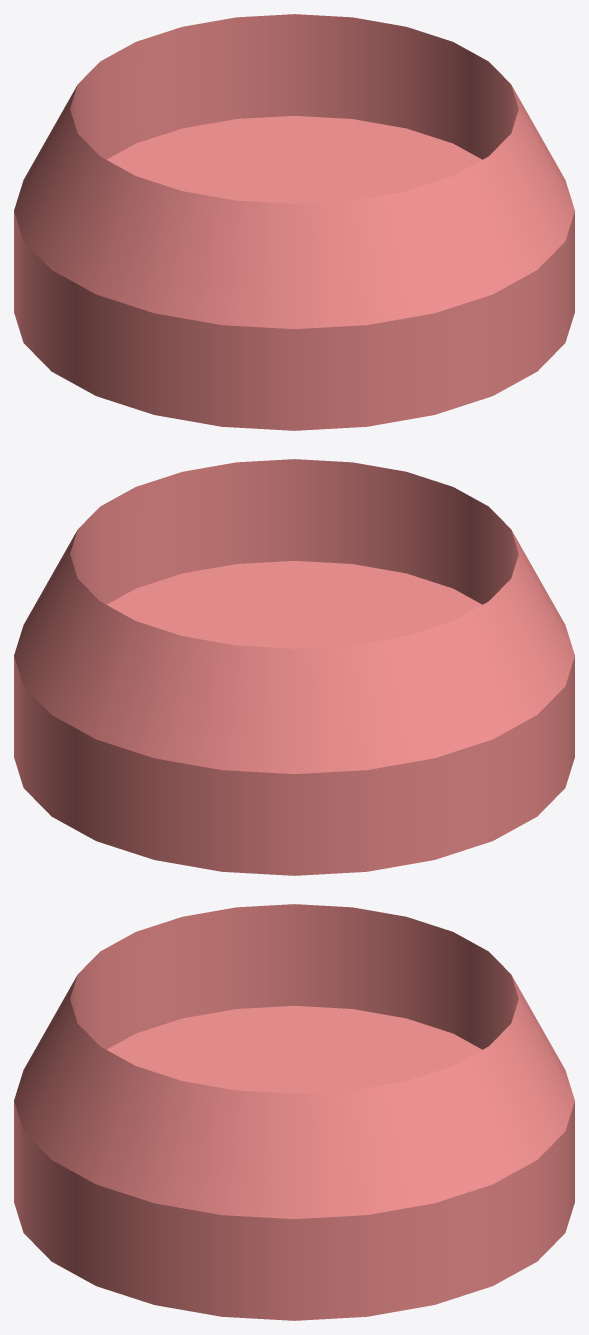
Rendered from Light_DengPian8_1X1_off.FBX.
The picture shows the model from 3 angles, top to bottom: view 1: azimuth 30°, elevation 25°; view 2: azimuth 150°, elevation 25°; view 3: azimuth 270°, elevation 25°; orthographic projection.
Visible parts, largest first — view 1: Box002; view 2: Box002; view 3: Box002.
Part boxes in pixels (x1=…): Box002: x1=14, y1=14, x2=574, y2=430; Box002: x1=14, y1=459, x2=574, y2=875; Box002: x1=14, y1=904, x2=574, y2=1320.
Bounding box in the file's own units: 0.5 × 0.2 × 0.5.
